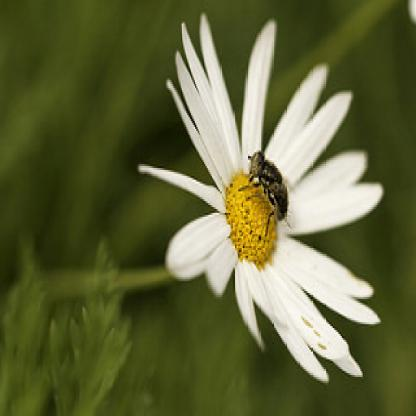ASTER: (104, 17, 398, 400)
